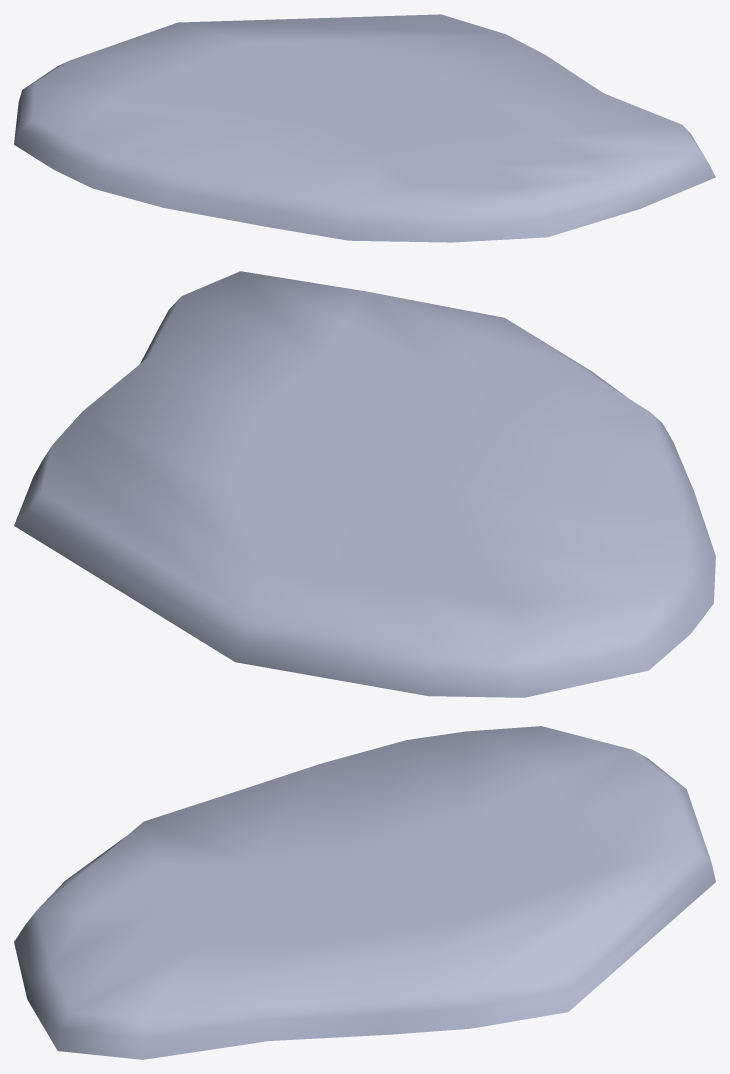
Rendered from Road_Rock_03.fbx.
The picture shows the model from 3 angles, top to bottom: view 1: azimuth 30°, elevation 25°; view 2: azimuth 150°, elevation 25°; view 3: azimuth 270°, elevation 25°; orthographic projection. The views are drawn at different scales.
Parts seen in each view (by area): view 1: Road_Rock_03; view 2: Road_Rock_03; view 3: Road_Rock_03.
Part boxes in pixels (x1,y1,x2,y2): Road_Rock_03: [14, 14, 715, 242]; Road_Rock_03: [14, 271, 715, 697]; Road_Rock_03: [14, 726, 715, 1059].
Bounding box in the file's own units: 53.75 × 3.15 × 52.
